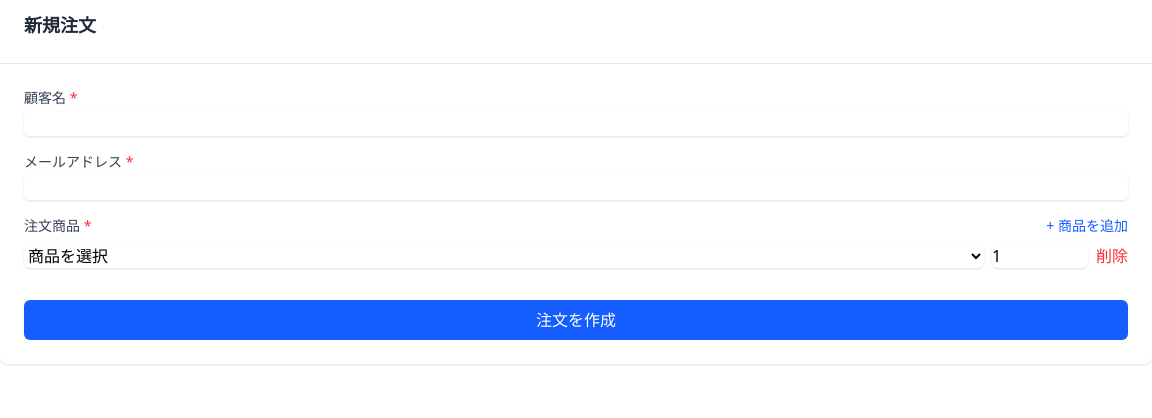
Test case: OrderForm Component › should add and remove order items
Expected: the number of buttons "削除" is 1, x1=1096 y1=244 x2=1128 y2=268
Note: Add a new item
Click the button "+ 商品を追加".
click(1087, 226)  # box x1=1046 y1=216 x2=1128 y2=236
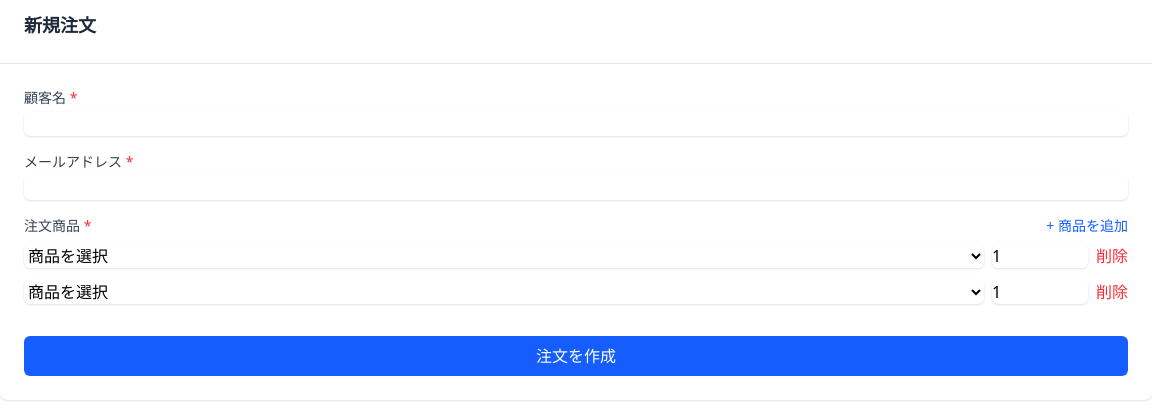
Expected: the number of buttons "削除" is 2
Note: Remove the second item
Click the 2nd button "削除".
click(1112, 292)  # box x1=1096 y1=280 x2=1128 y2=304
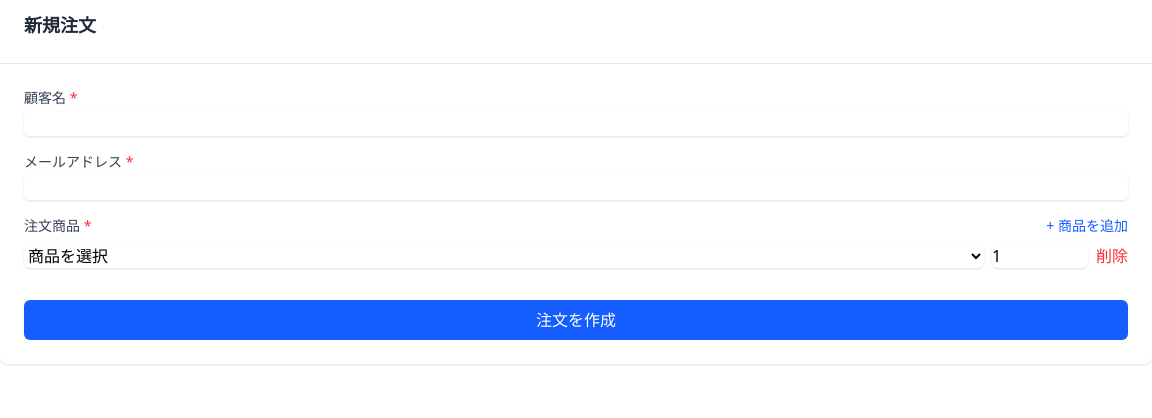
Expected: the number of buttons "削除" is 1, x1=1096 y1=244 x2=1128 y2=268
